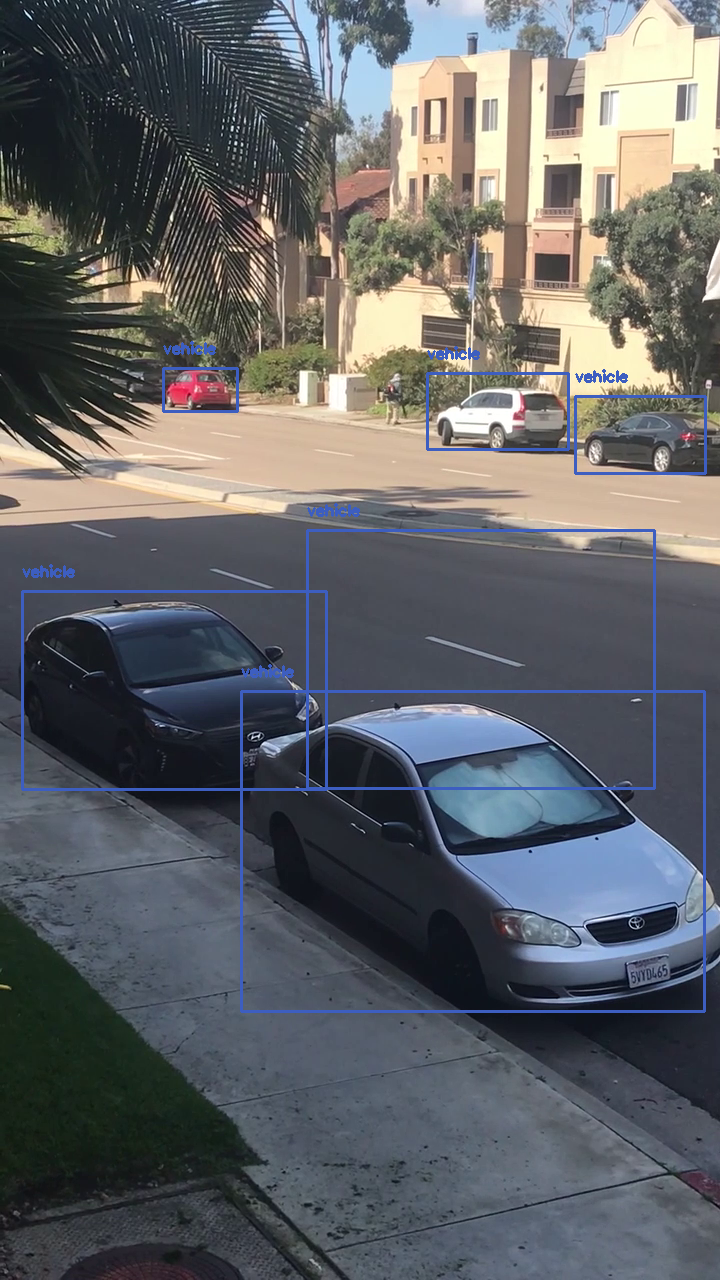vehicle: (241, 691, 704, 1011), (307, 530, 654, 788), (22, 591, 326, 789), (427, 373, 568, 449), (575, 396, 705, 473), (163, 368, 237, 411)
